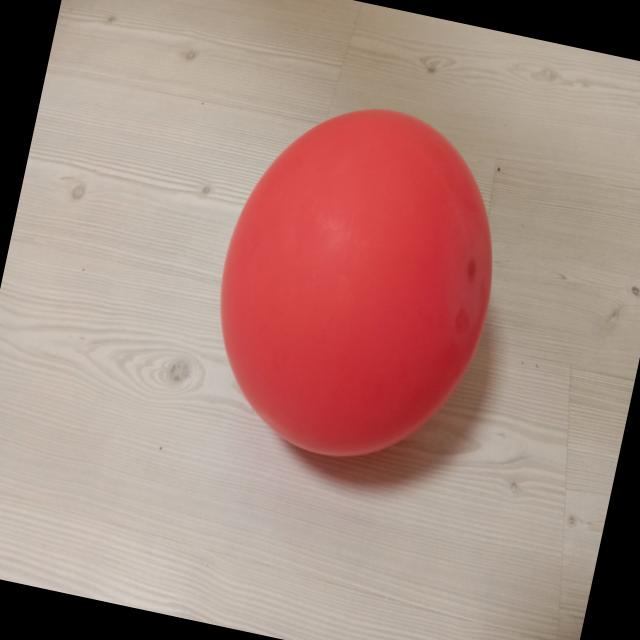balloon: (220, 109, 492, 456)
